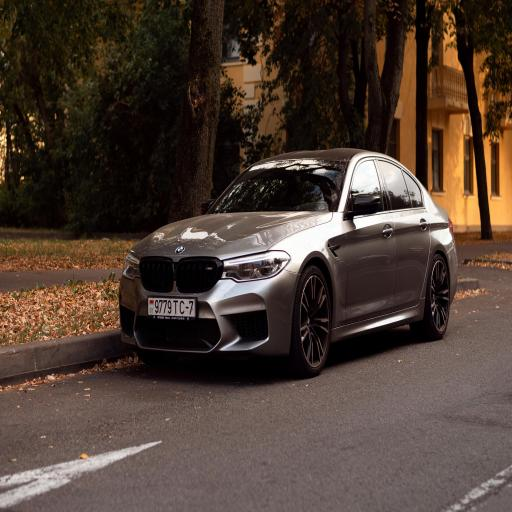place: (146, 296, 196, 322)
